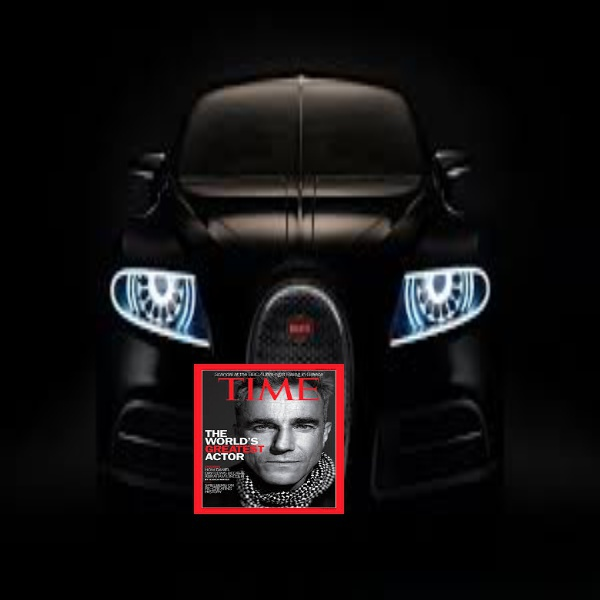time_cover: (185, 342, 354, 519)
